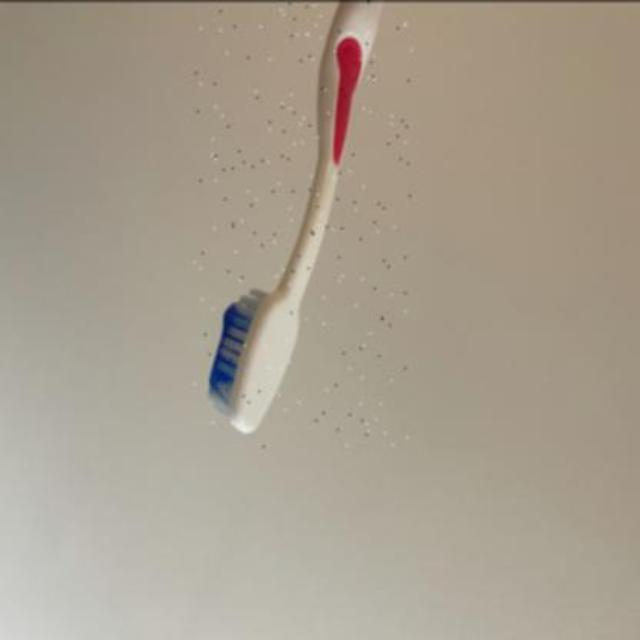toothbrush: (194, 0, 412, 446)
